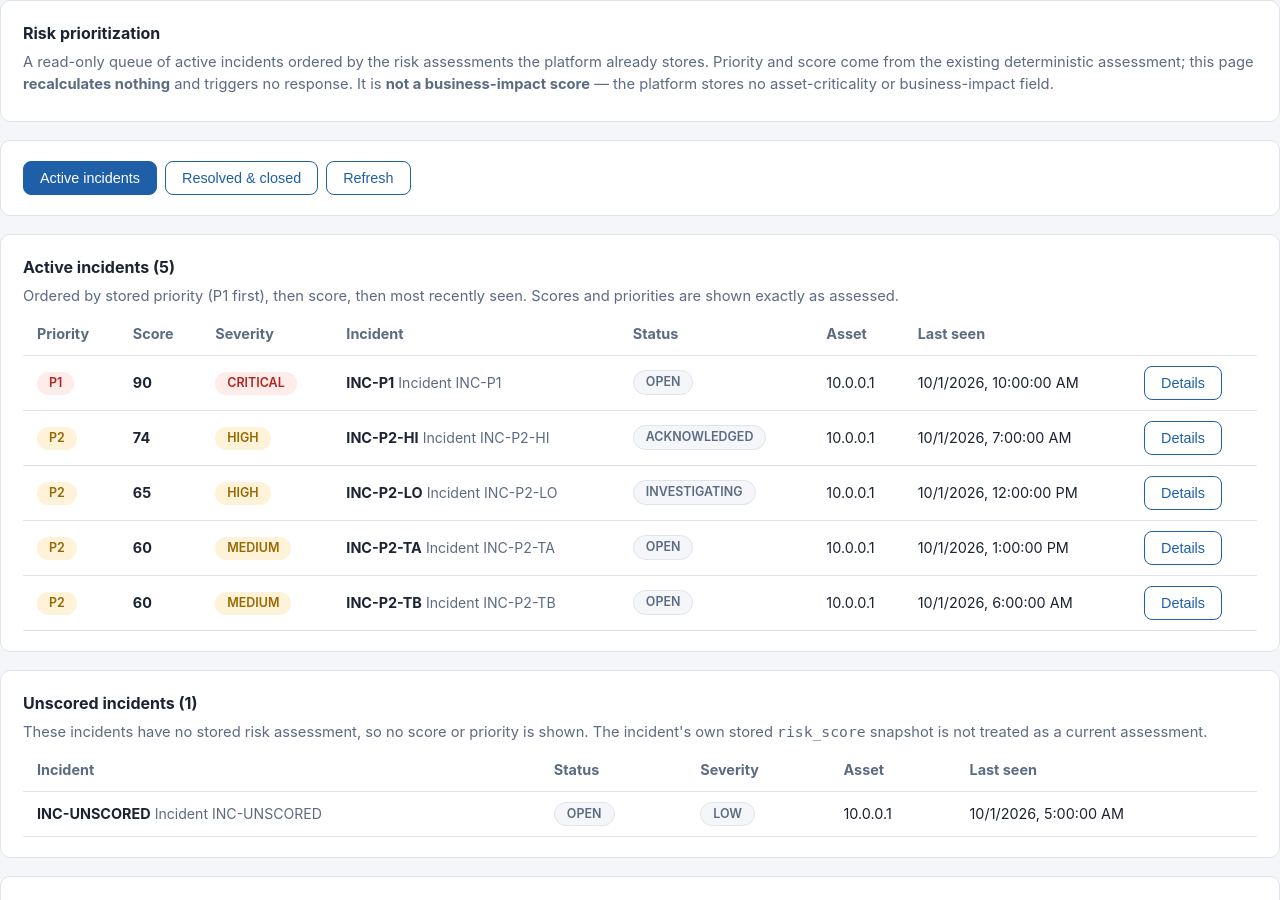
Risk prioritization (Phase 3, Step 39) › reveals explanation, factors, calculation time and scoring version
Click the button "Details" in the row of "90" at (1183, 383), box left=1144, top=366, right=1222, bottom=400
(page scrolled)
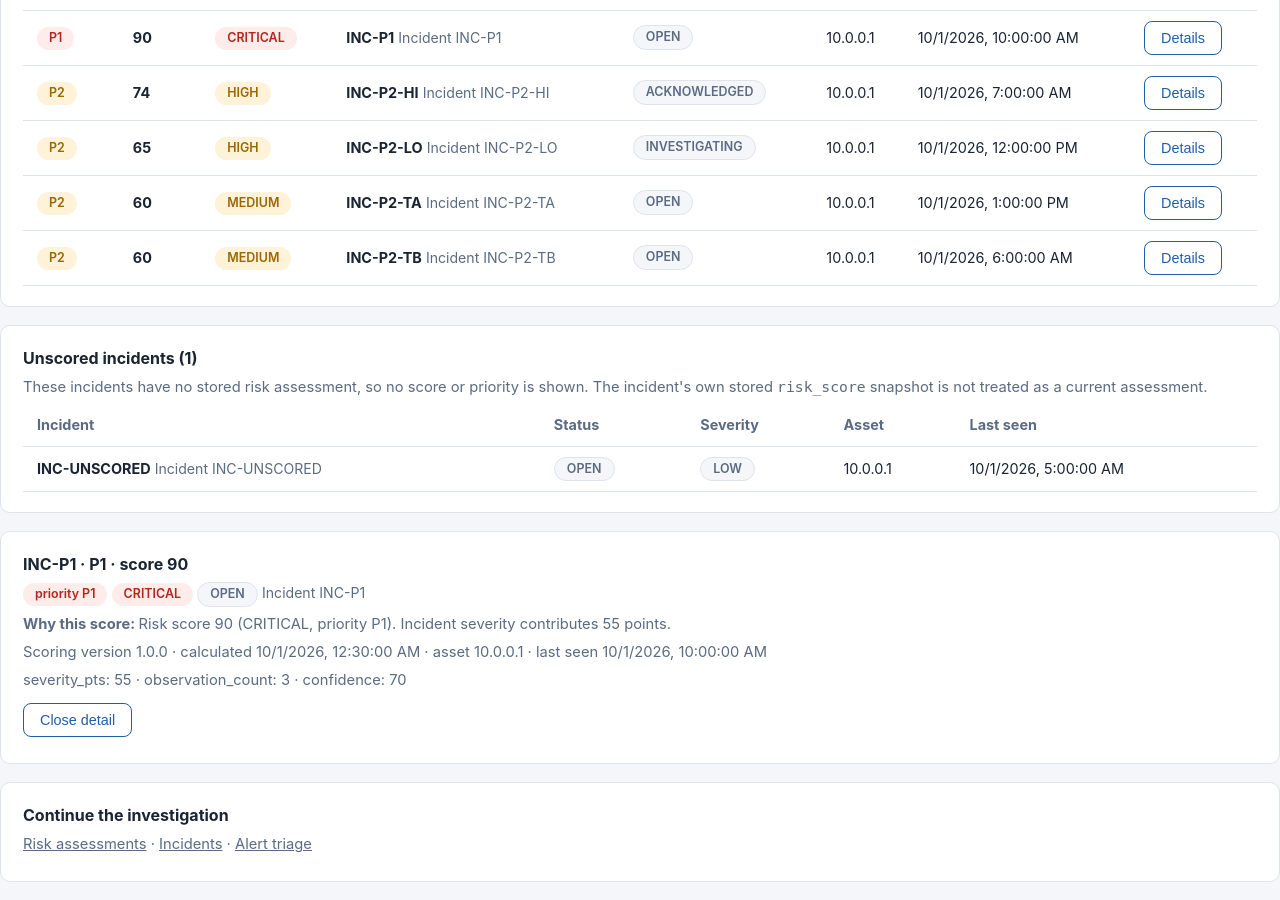
Expected: the text "Risk score 90 (CRITICAL, priority P1)" is shown, left=139, top=615, right=671, bottom=633
Expected: the text "Scoring version 1.0.0" is shown, left=23, top=643, right=767, bottom=661
Expected: the text "severity_pts: 55 · observation_count: 3 · confidence: 70" is shown, left=23, top=671, right=407, bottom=689
